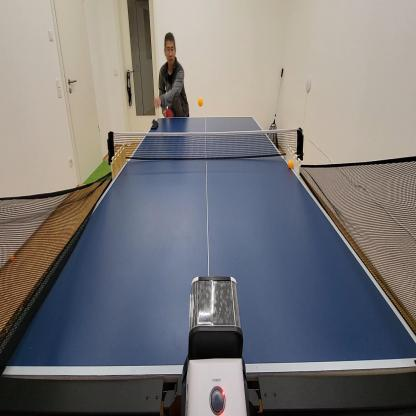Ball: (197, 96, 204, 108), (288, 159, 294, 170), (9, 253, 15, 262)
